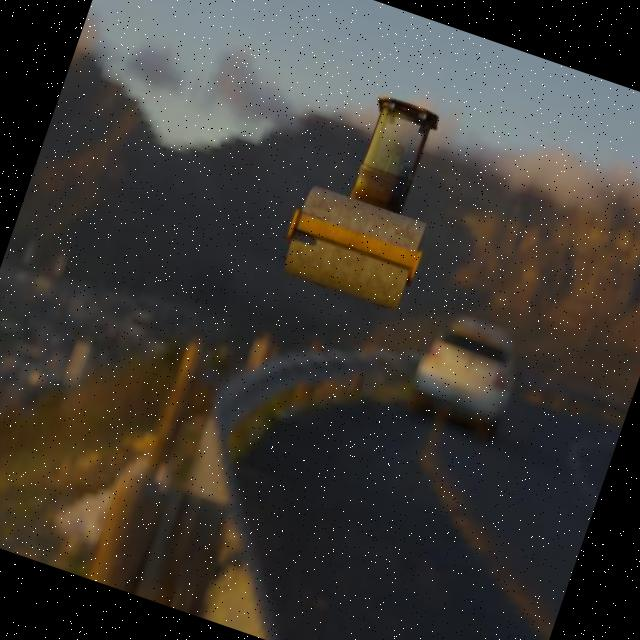Roller: (273, 78, 467, 314)
